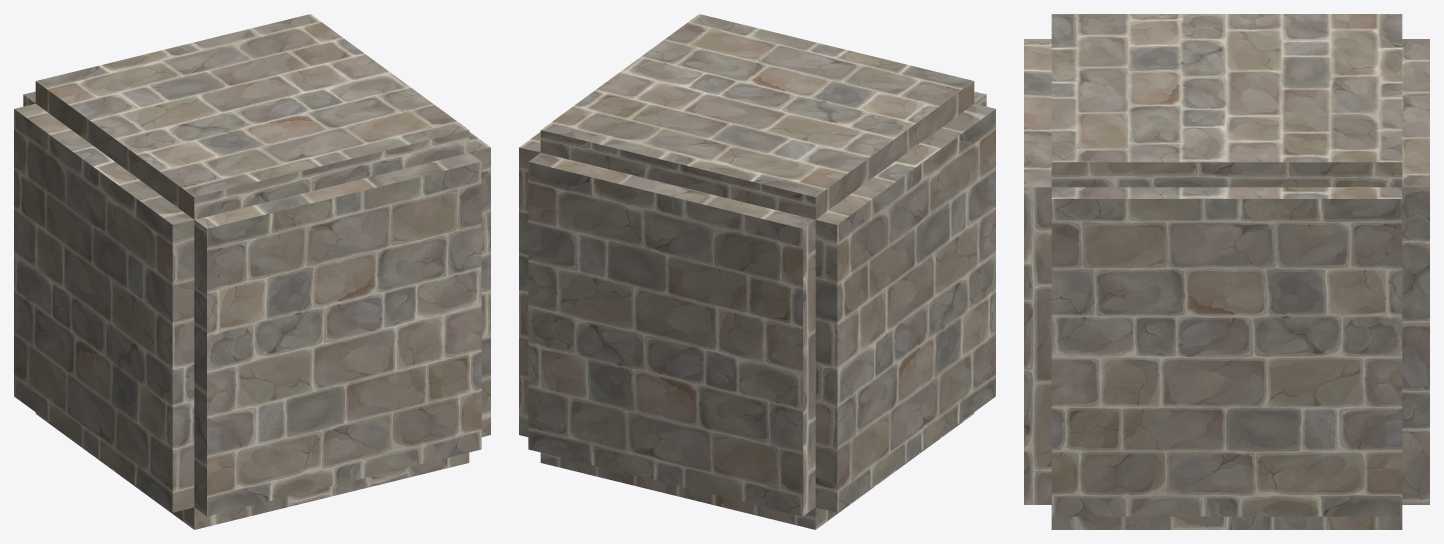
Rendered from puzzle_room.glb.
3 views of the same model, side by side, from view 1: azimuth 30°, elevation 25°; view 2: azimuth 150°, elevation 25°; view 3: azimuth 270°, elevation 25° (orthographic). The views are drawn at different scales.
Visible parts, largest first — view 1: Front wall, Left wall, Roof, Floor, Right wall; view 2: Back wall, Left wall, Roof, Floor, Right wall; view 3: Right wall, Roof, Back wall, Front wall, Floor.
Part boxes in pixels (x1,y1,x2,y2): Front wall: (194, 153, 481, 516); Left wall: (14, 103, 194, 512); Roof: (35, 14, 469, 219); Floor: (35, 412, 469, 529); Right wall: (469, 132, 490, 436); Back wall: (528, 153, 815, 516); Left wall: (815, 103, 995, 512); Roof: (540, 14, 974, 219); Floor: (540, 412, 974, 529); Right wall: (519, 132, 540, 436); Right wall: (1051, 187, 1402, 516); Roof: (1051, 14, 1402, 187); Back wall: (1402, 39, 1429, 504); Front wall: (1024, 39, 1051, 504); Floor: (1051, 516, 1402, 529).
Size of what is drawn, in the model's own units: 2.31 by 2.31 by 2.31.
Materials: 1 (1 with a texture image).
